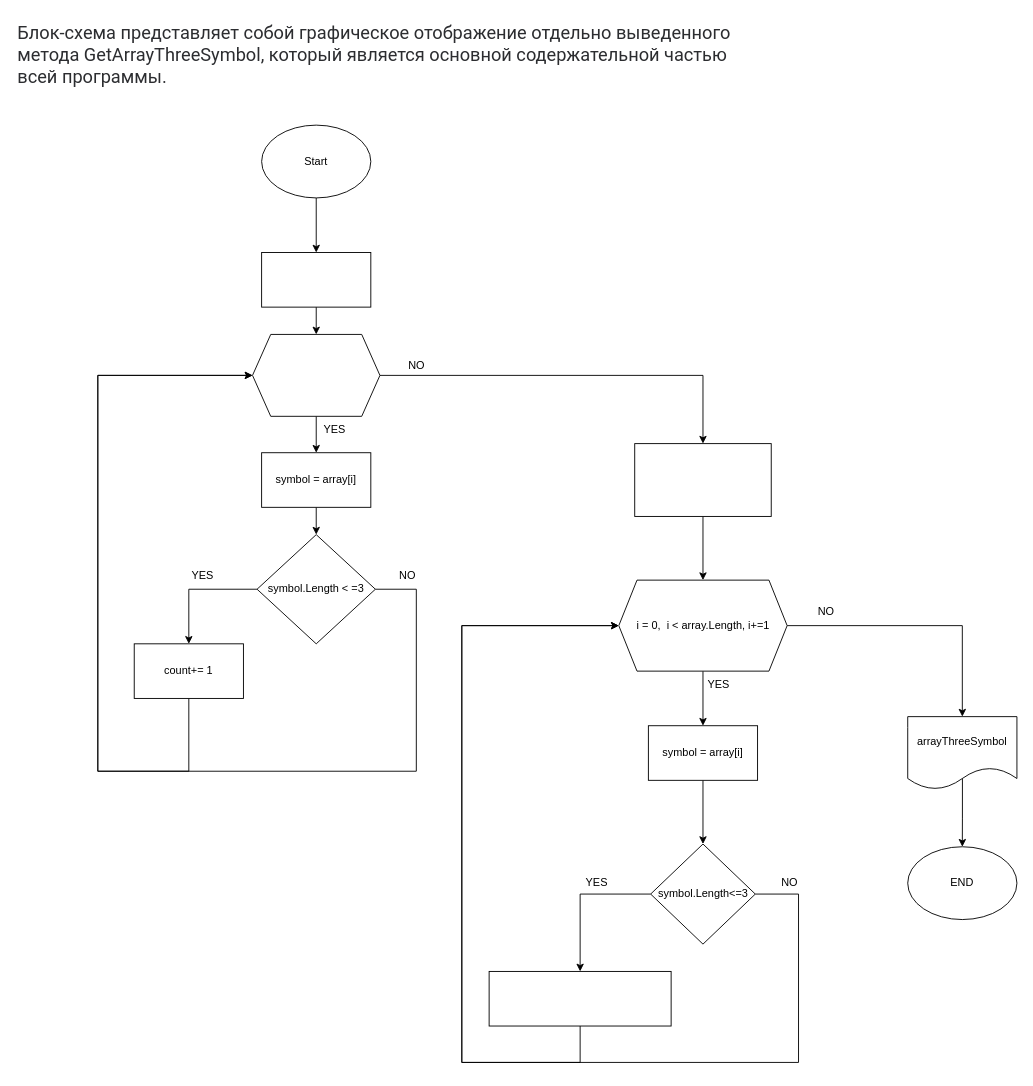
Image size: 1033x1086. Some labels were removed from this diagram. The shapes that lost their labels are listed below. From the top down, each one's box as (x1, y1, x2, y2) in pixels, then its label:
(261, 252, 371, 307): count = 0
(252, 334, 380, 416): i = 0, array.Length, i+=1
(634, 443, 771, 516): arrayThreeSymbol[count] j = 0
(488, 971, 671, 1026): arrayThreeSymbol[j] = symbol j+=1
